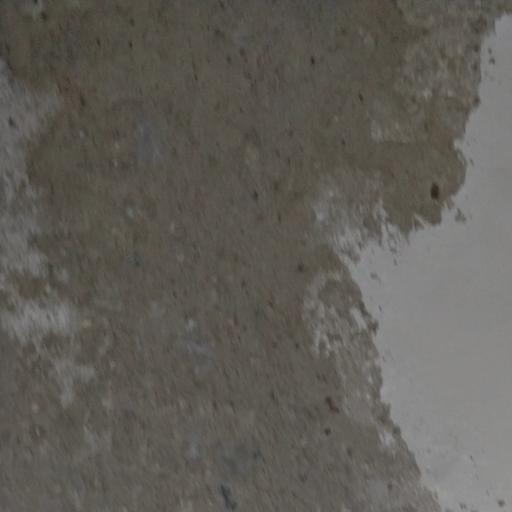peeling: (0, 0, 499, 511)
